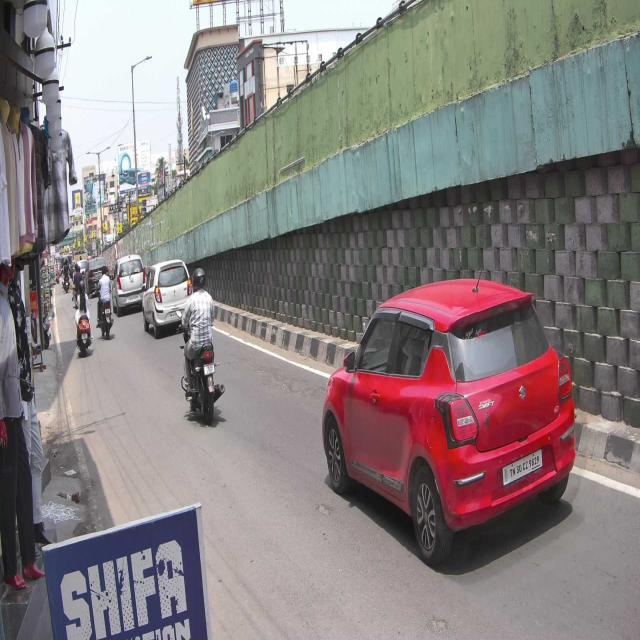single_rider: (177, 265, 225, 427)
